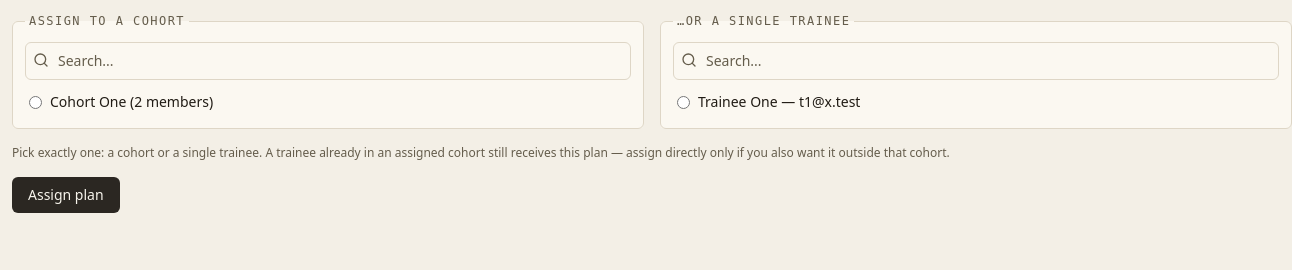
Test: Assign form › refuses to submit with neither a cohort nor a trainee
Click the button "Assign plan" at [66, 195], box [12,177,120,213]
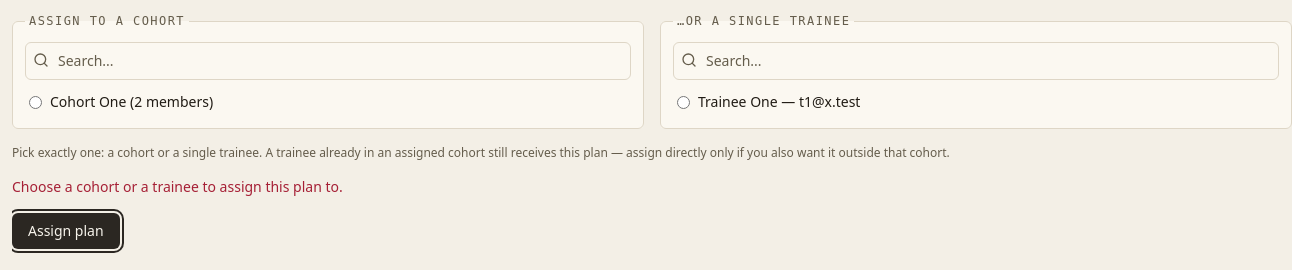
Check: the text "Choose a cohort or a trainee to assign this plan to." is shown, box [12,177,343,196]
